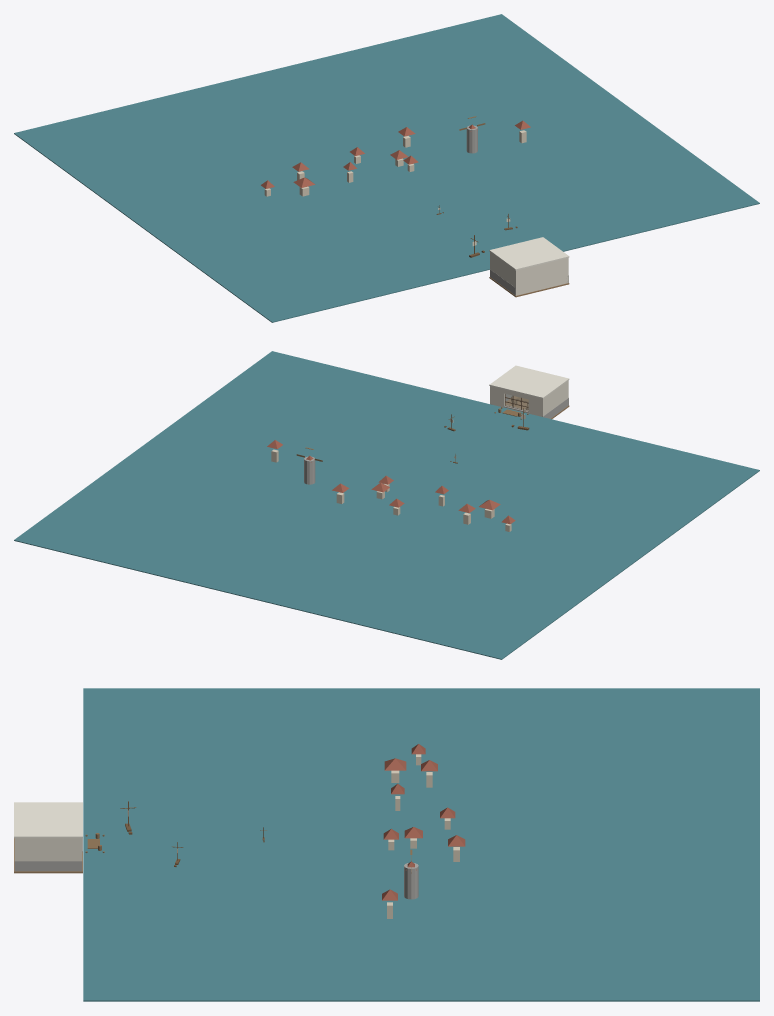
Rendered from office_interior.gltf.
3 renders of one model, top to bottom at view 1: azimuth 30°, elevation 25°; view 2: azimuth 150°, elevation 25°; view 3: azimuth 270°, elevation 25°, orthographic. The views are drawn at different scales.
Parts seen in each view (by area): view 1: Water, CeilingSlab, Wall_South; view 2: Water, CeilingSlab; view 3: Water, CeilingSlab, Wall_East, Wainscot_East.
Part boxes in pixels (x1,y1,x2,y2): Water: [14, 14, 759, 322]; CeilingSlab: [489, 237, 569, 270]; Wall_South: [514, 258, 568, 295]; Water: [14, 351, 759, 659]; CeilingSlab: [489, 365, 569, 398]; Water: [83, 688, 759, 1001]; CeilingSlab: [14, 802, 82, 838]; Wall_East: [14, 838, 82, 861]; Wainscot_East: [14, 861, 82, 871].
Size of the model in its own units: 60 by 5.11 by 60.65.
